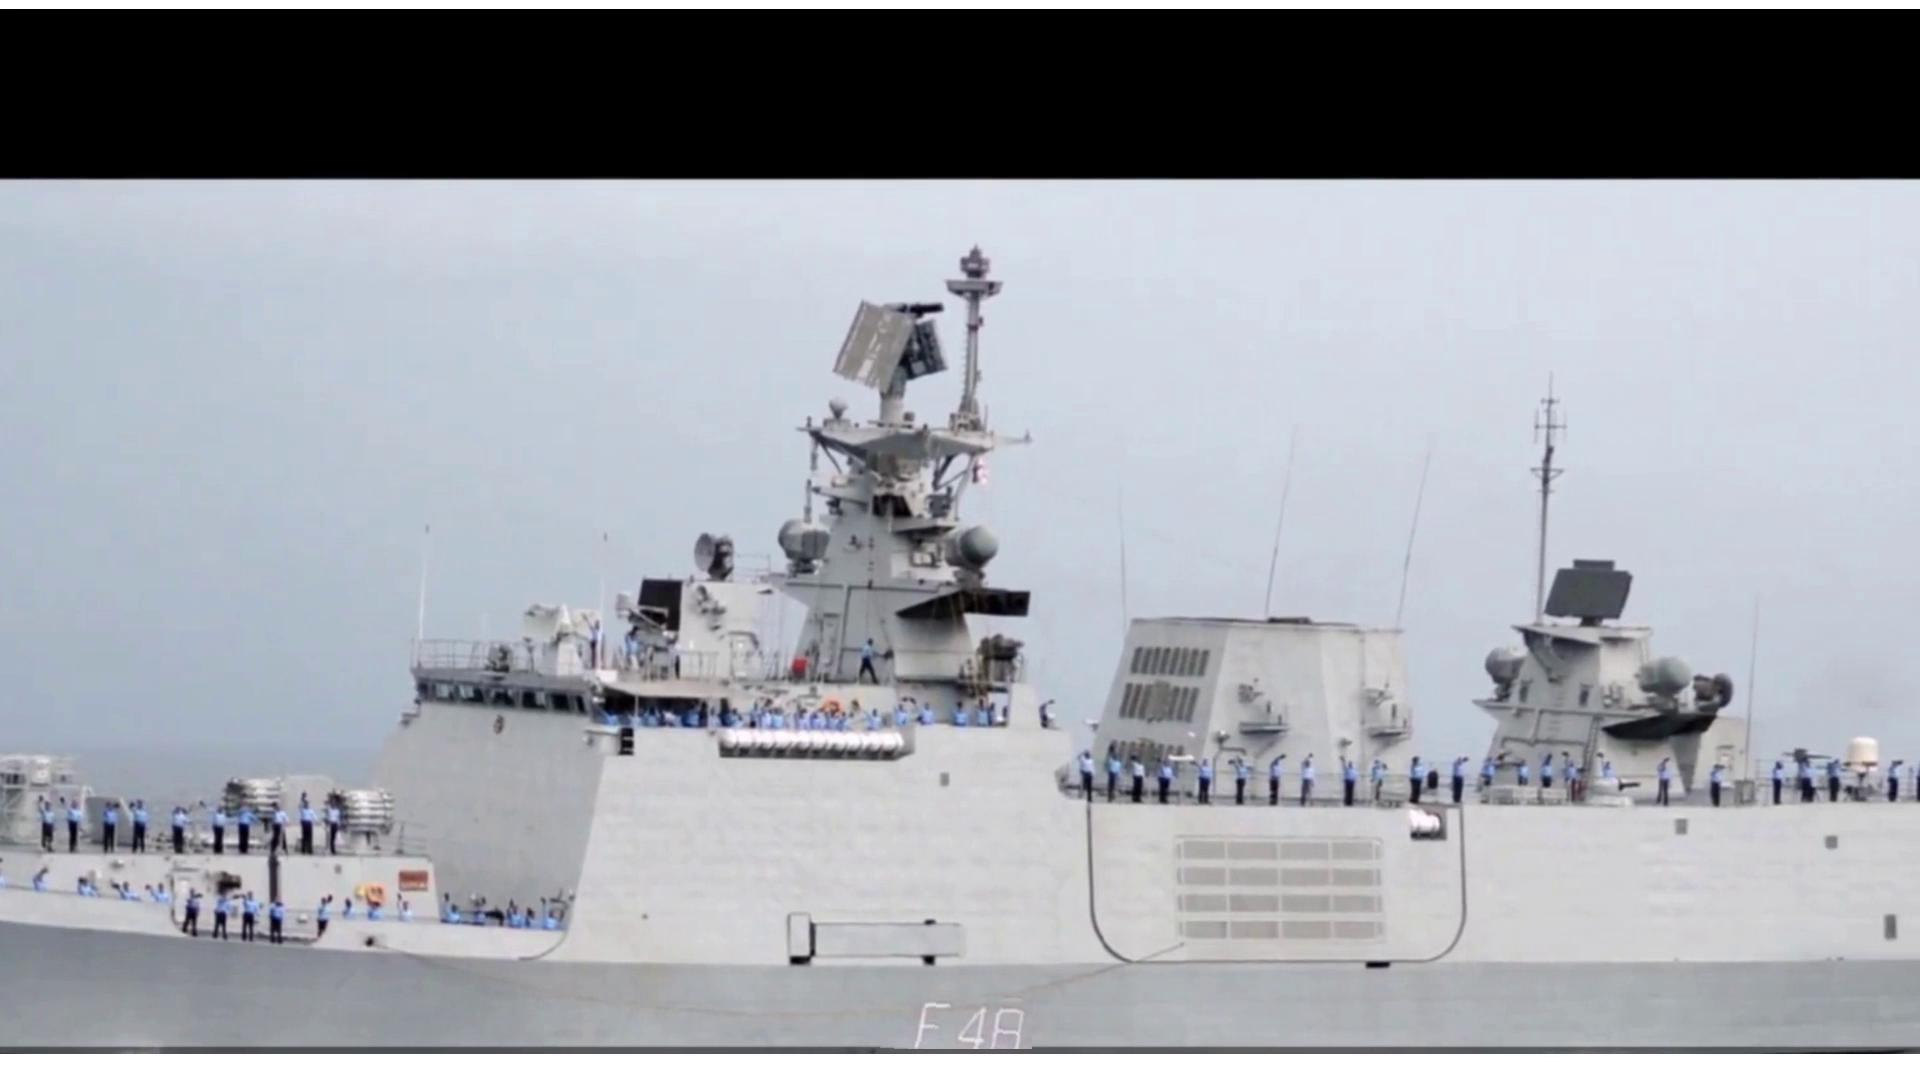OCR: (876, 986, 1033, 1048)
